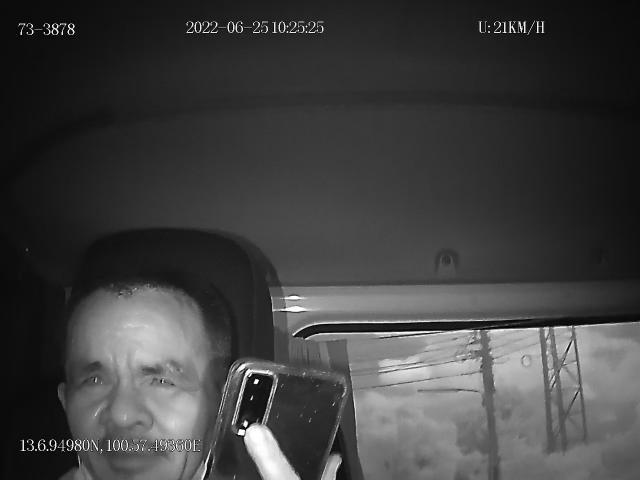PhoneUse: (210, 356, 350, 480)
SafeDriving: (72, 361, 115, 398), (140, 362, 184, 396)
